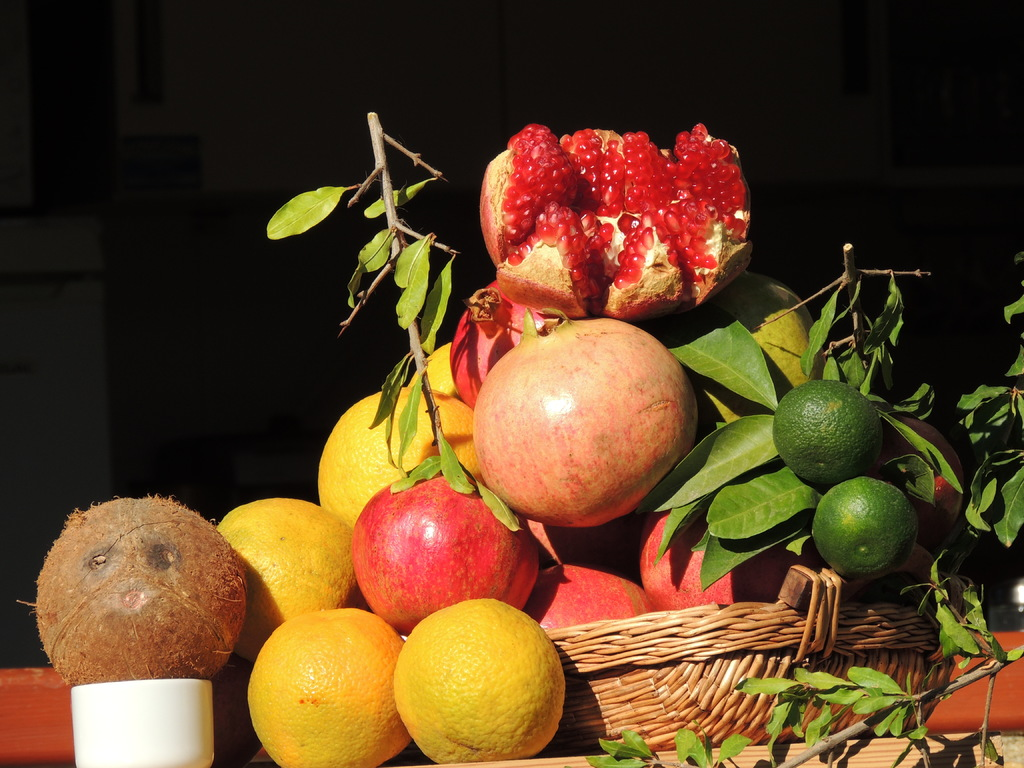Apple: (518, 560, 655, 634)
